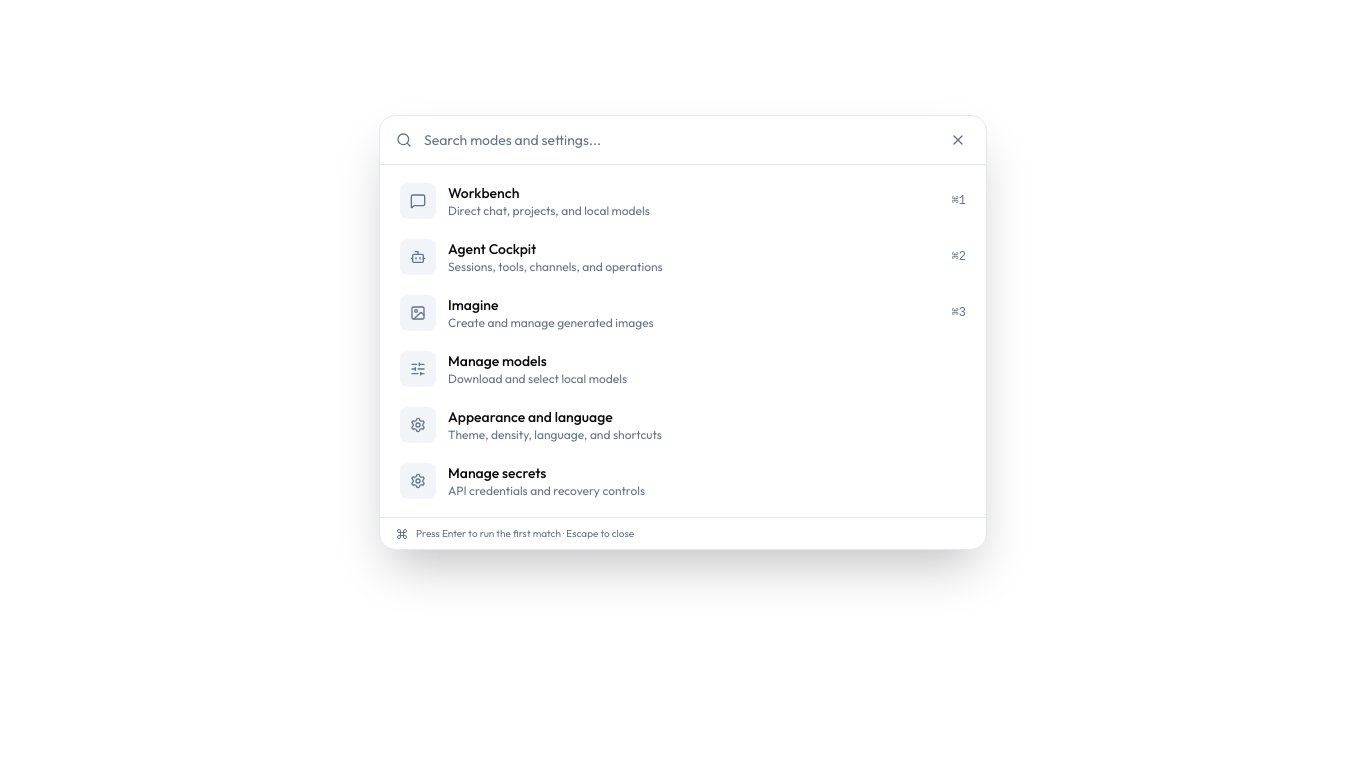
CommandPalette › announces an empty search result
Type "no-such-action" into the field named "Search commands" at (679, 140), box [424,116,934,164]
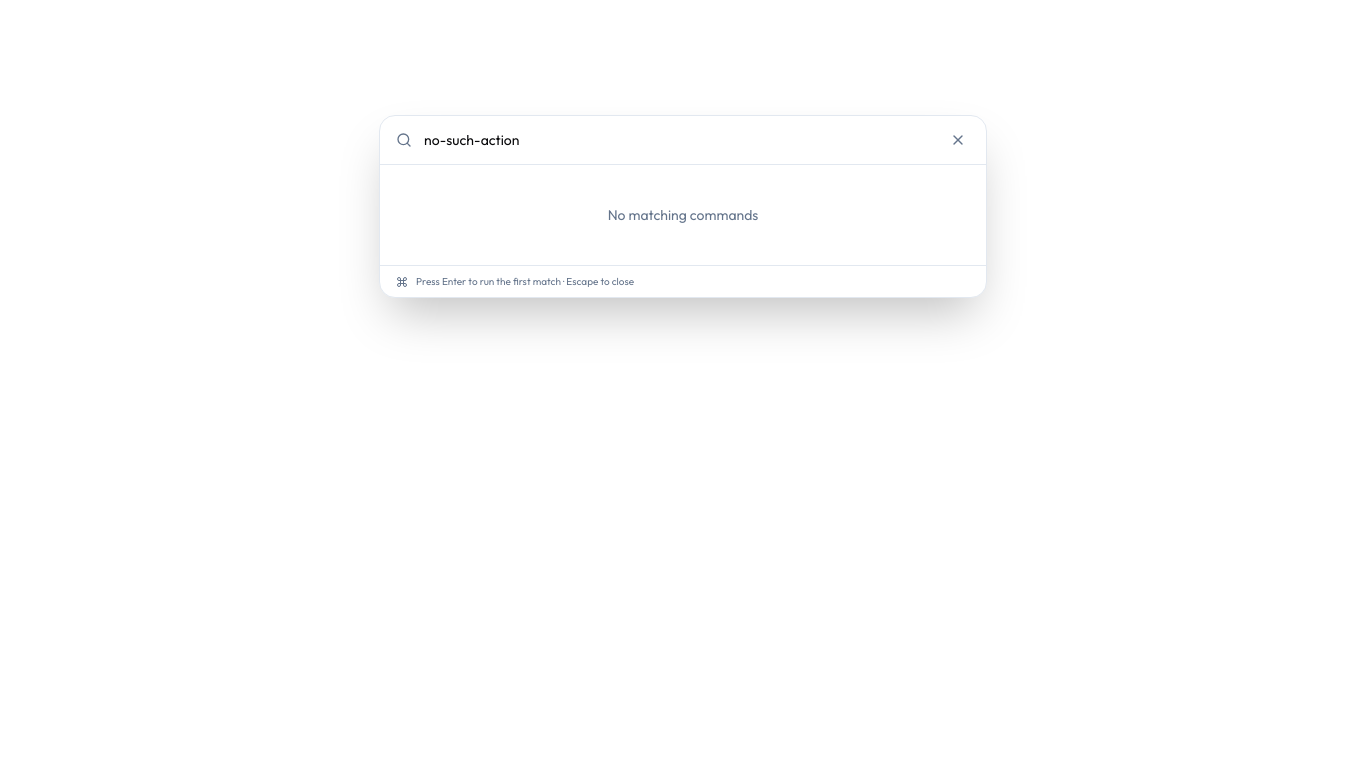
Now the message reads "No matching commands", box [608,206,758,224]
